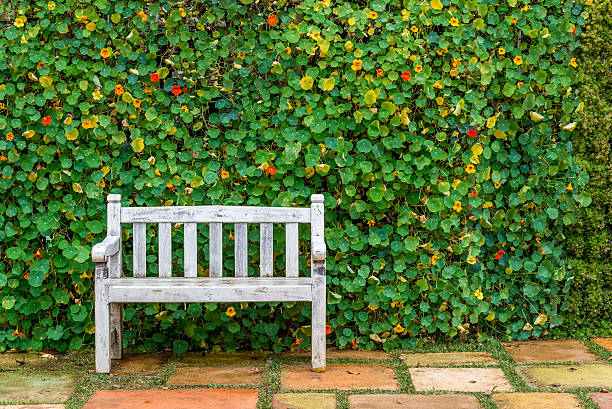bench: (79, 190, 345, 382)
